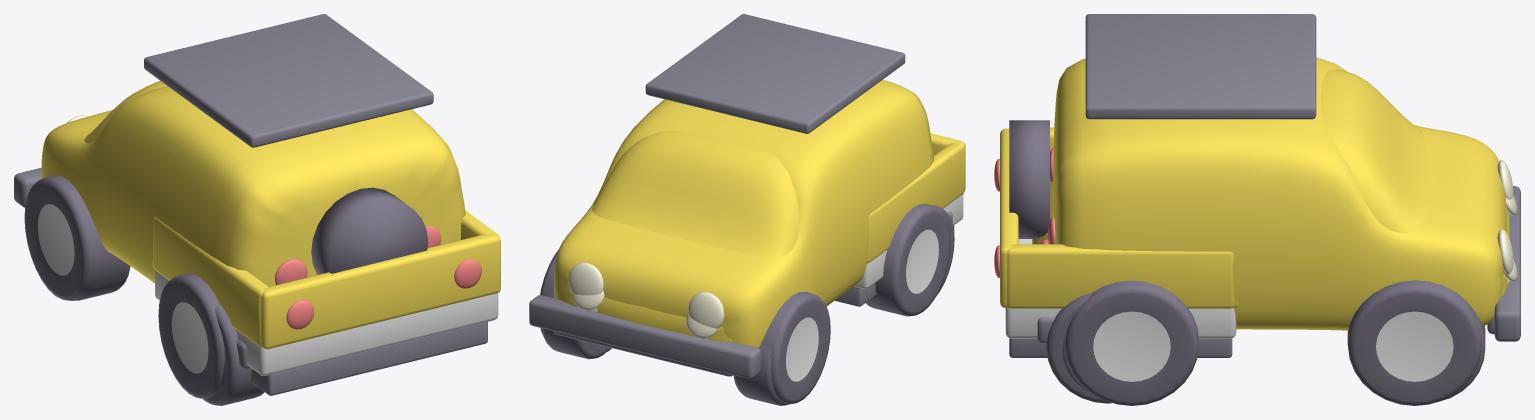
File: tw_cars.glb
3 renders of one model, left to right at view 1: azimuth 30°, elevation 25°; view 2: azimuth 150°, elevation 25°; view 3: azimuth 270°, elevation 25°, orthographic. The views are drawn at different scales.
Visible parts, largest first — view 1: CAR_jeep_shell, CAR_jeep_rack, CAR_truck_bedB, CAR_jeep_WFR, CAR_jeep_spare, CAR_truck_bedfloor, CAR_jeep_WRR, CAR_truck_bedR, CAR_truck_chassis, CAR_truck_WRR, CAR_jeep_bumperF, CAR_truck_TL (+5 smaller); view 2: CAR_jeep_shell, CAR_truck_shell, CAR_jeep_rack, CAR_jeep_bumperF, CAR_jeep_WRR, CAR_jeep_WFR, CAR_truck_bedR, CAR_truck_WFR, CAR_jeep_HR, CAR_jeep_HL, CAR_truck_WFL, CAR_truck_bedfloor (+5 smaller); view 3: CAR_jeep_shell, CAR_jeep_rack, CAR_jeep_WFL, CAR_jeep_WRL, CAR_truck_shell, CAR_truck_bedL, CAR_jeep_spare, CAR_truck_bedfloor, CAR_jeep_bumperF, CAR_truck_bedB, CAR_truck_WRL, CAR_truck_chassis (+1 smaller).
Part boxes in pixels (x1,y1,x2,y2): CAR_jeep_shell: [41, 86, 465, 286]; CAR_jeep_rack: [144, 14, 433, 147]; CAR_truck_bedB: [261, 233, 500, 349]; CAR_jeep_WFR: [24, 175, 128, 300]; CAR_jeep_spare: [311, 187, 428, 274]; CAR_truck_bedfloor: [155, 270, 498, 375]; CAR_jeep_WRR: [158, 273, 224, 398]; CAR_truck_bedR: [153, 216, 268, 347]; CAR_truck_chassis: [250, 322, 487, 395]; CAR_truck_WRR: [203, 303, 264, 405]; CAR_jeep_bumperF: [14, 167, 41, 207]; CAR_truck_TL: [454, 259, 481, 288]; CAR_jeep_shell: [554, 79, 933, 347]; CAR_truck_shell: [563, 130, 799, 342]; CAR_jeep_rack: [645, 14, 905, 133]; CAR_jeep_bumperF: [529, 295, 760, 378]; CAR_jeep_WRR: [866, 204, 950, 316]; CAR_jeep_WFR: [761, 292, 830, 404]; CAR_truck_bedR: [867, 142, 964, 263]; CAR_truck_WFR: [733, 344, 789, 405]; CAR_jeep_HR: [688, 292, 724, 328]; CAR_jeep_HL: [568, 262, 603, 295]; CAR_truck_WFL: [542, 292, 608, 359]; CAR_truck_bedfloor: [854, 194, 963, 288]; CAR_jeep_shell: [1052, 57, 1506, 330]; CAR_jeep_rack: [1085, 14, 1316, 119]; CAR_jeep_WFL: [1347, 280, 1481, 405]; CAR_jeep_WRL: [1065, 280, 1198, 405]; CAR_truck_shell: [1320, 69, 1510, 325]; CAR_truck_bedL: [1007, 244, 1234, 308]; CAR_jeep_spare: [1009, 120, 1049, 238]; CAR_truck_bedfloor: [1005, 239, 1236, 338]; CAR_jeep_bumperF: [1494, 186, 1520, 341]; CAR_truck_bedB: [1000, 128, 1018, 308]; CAR_truck_WRL: [1046, 293, 1111, 403]; CAR_truck_chassis: [1009, 338, 1232, 357].
Size of the model in its own units: 1.75 by 1.66 by 2.83.
